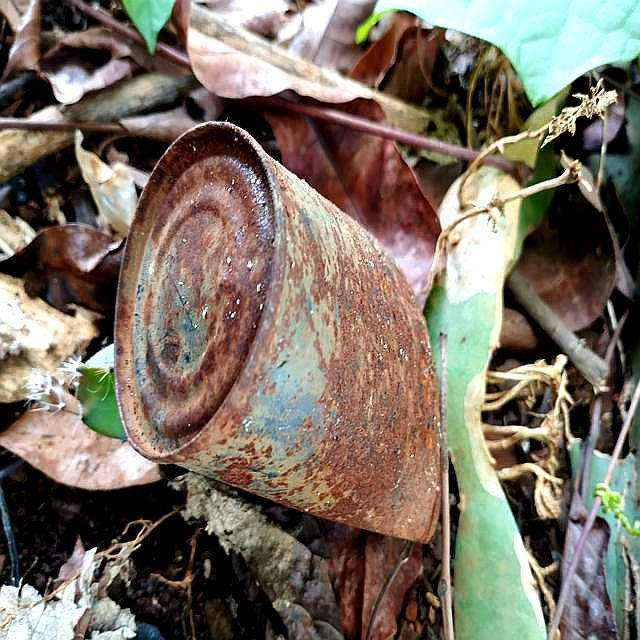Non-biodegradable: (111, 118, 446, 545)
